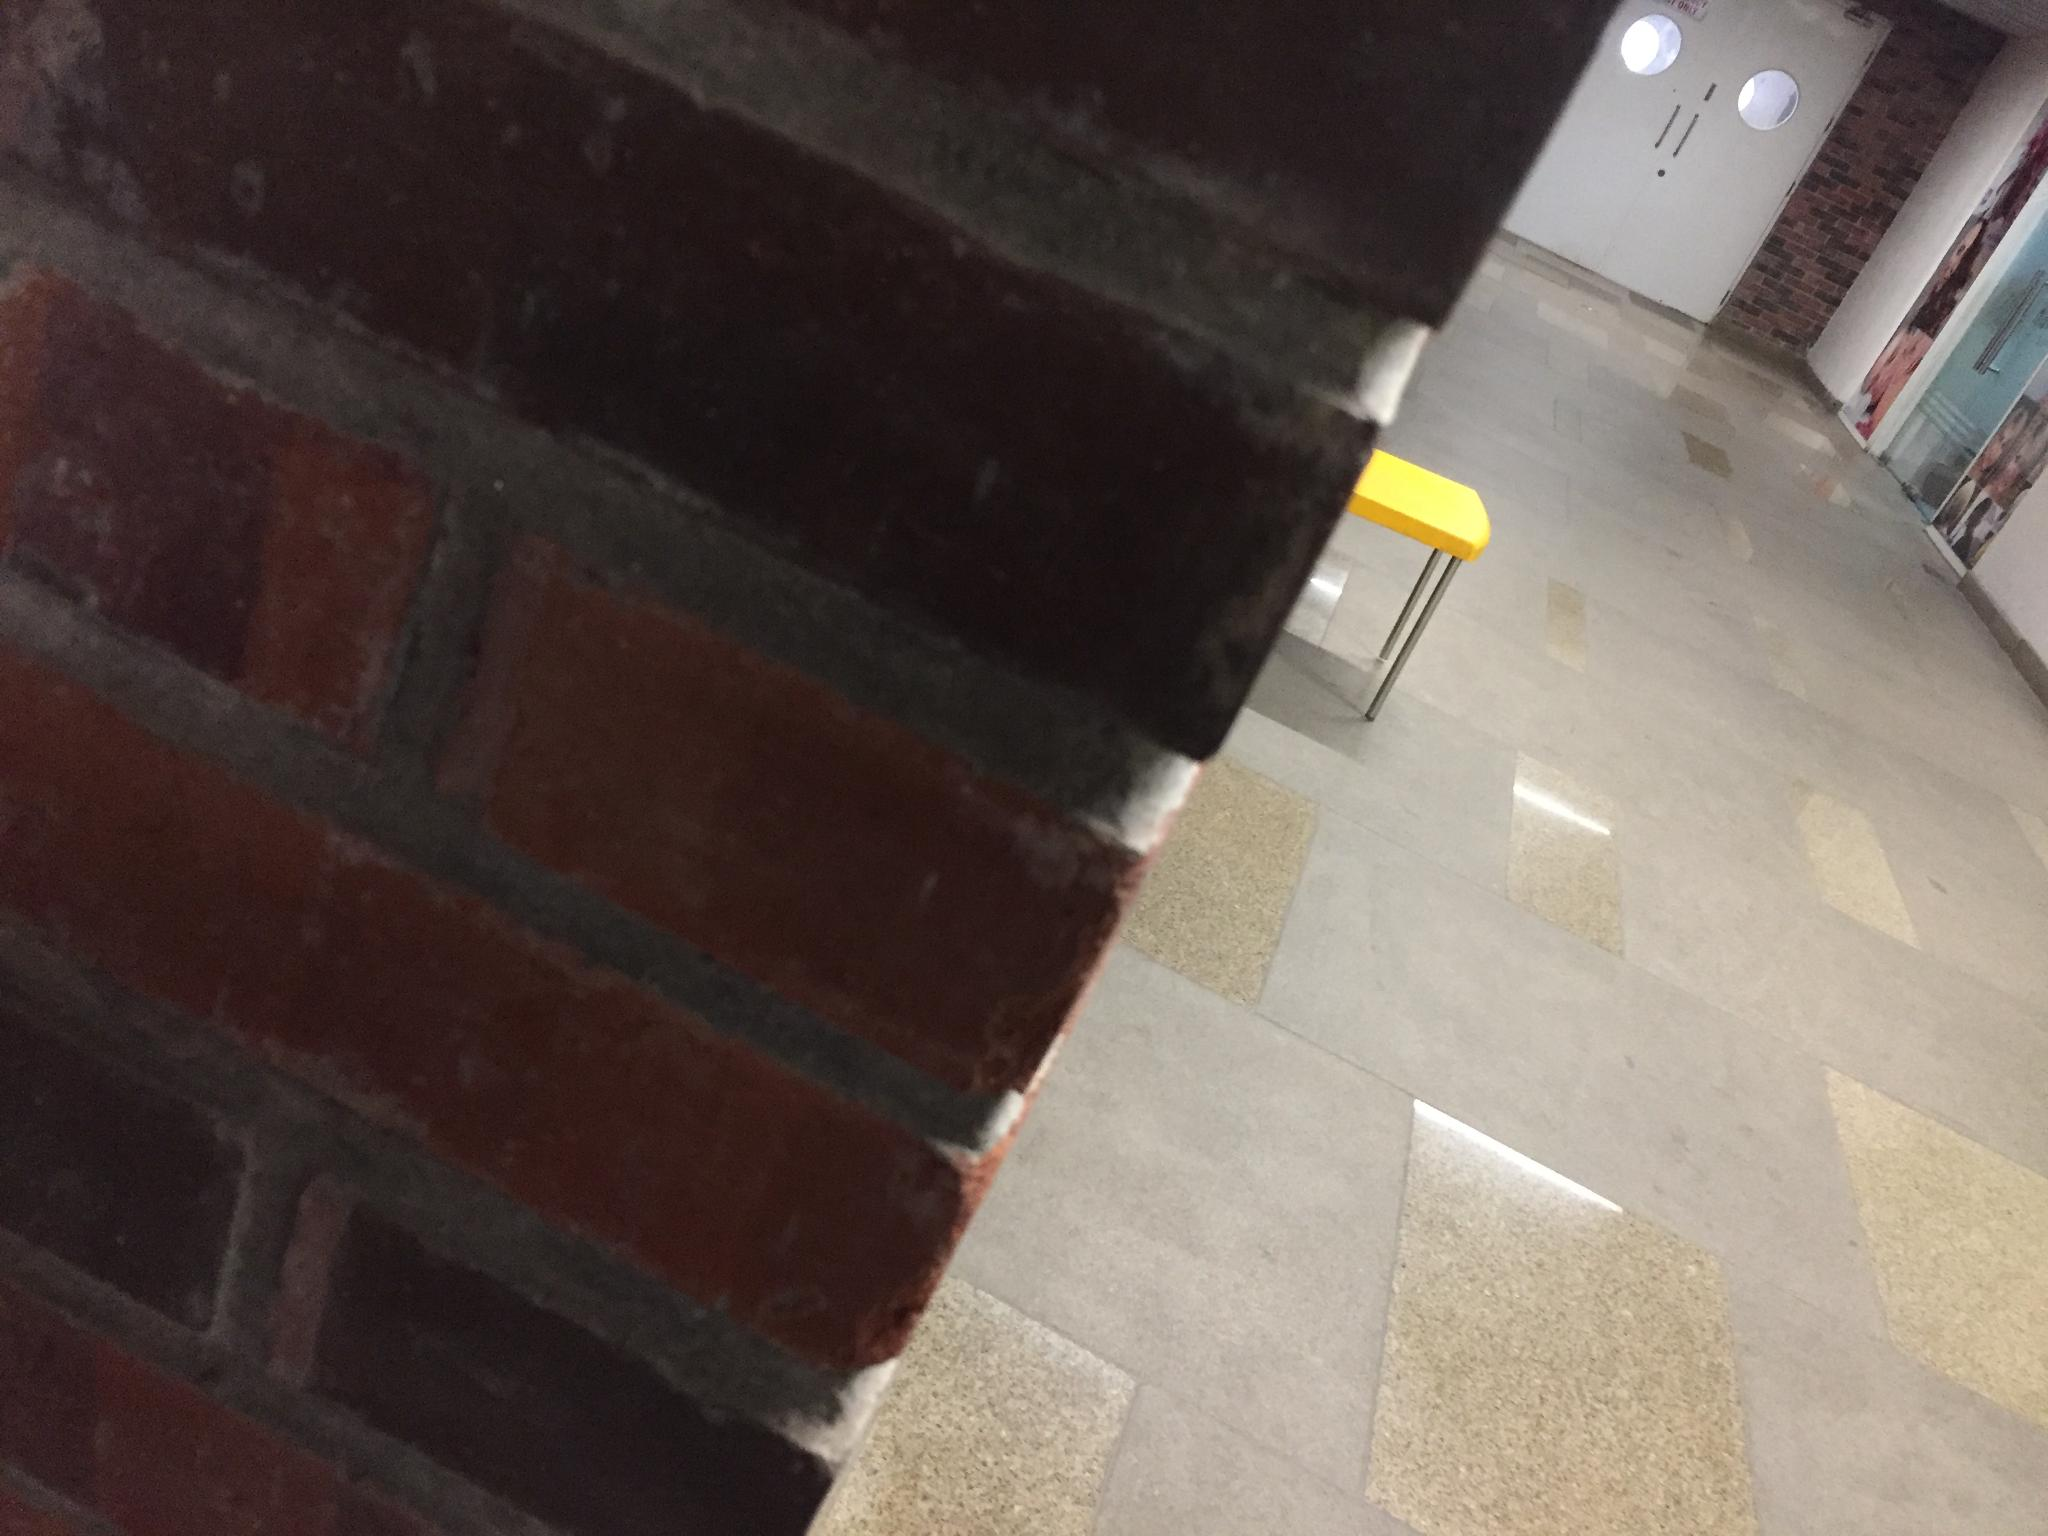chair: (1259, 271, 1500, 760)
